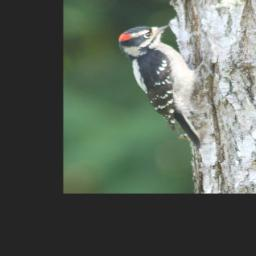Woodpecker: (116, 21, 209, 151)
